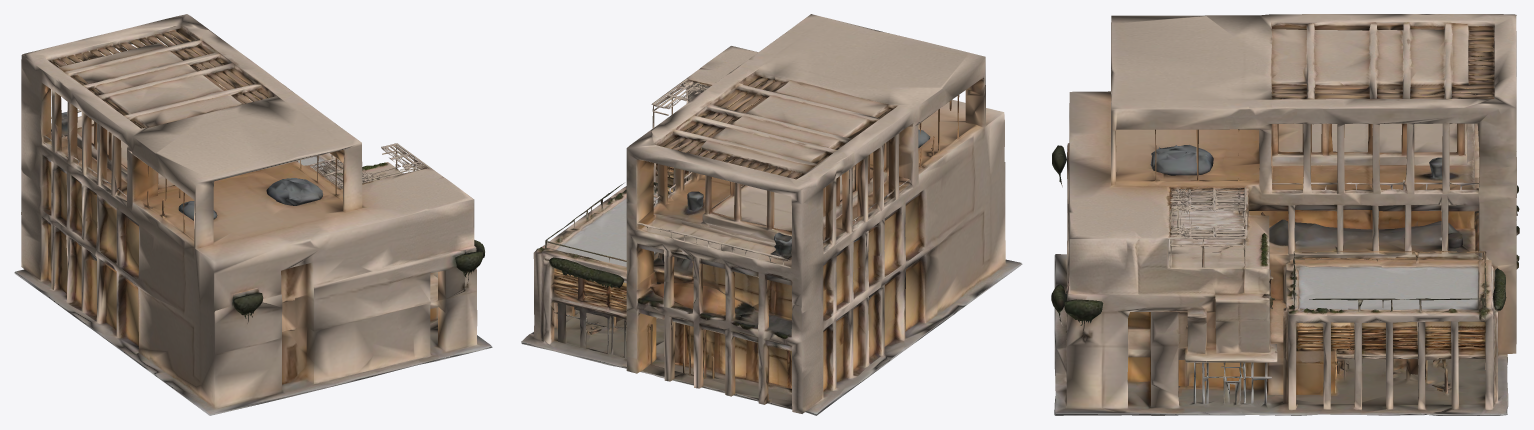
Rendered from shopblk1_lod1.glb.
3 views of the same model, side by side, from view 1: azimuth 30°, elevation 25°; view 2: azimuth 150°, elevation 25°; view 3: azimuth 270°, elevation 25° (orthographic). The views are drawn at different scales.
Visible parts, largest first — view 1: tripo_node_f659cf5f-adca-4809-aeab-73c3730deb1c; view 2: tripo_node_f659cf5f-adca-4809-aeab-73c3730deb1c; view 3: tripo_node_f659cf5f-adca-4809-aeab-73c3730deb1c.
Part boxes in pixels (box(x1,y1,x2,y2)): tripo_node_f659cf5f-adca-4809-aeab-73c3730deb1c: box(14, 14, 492, 415); tripo_node_f659cf5f-adca-4809-aeab-73c3730deb1c: box(521, 14, 1022, 415); tripo_node_f659cf5f-adca-4809-aeab-73c3730deb1c: box(1051, 14, 1519, 415).
Bounding box in the file's own units: 17.09 × 12 × 20.48.
1 material, 1 textured.
